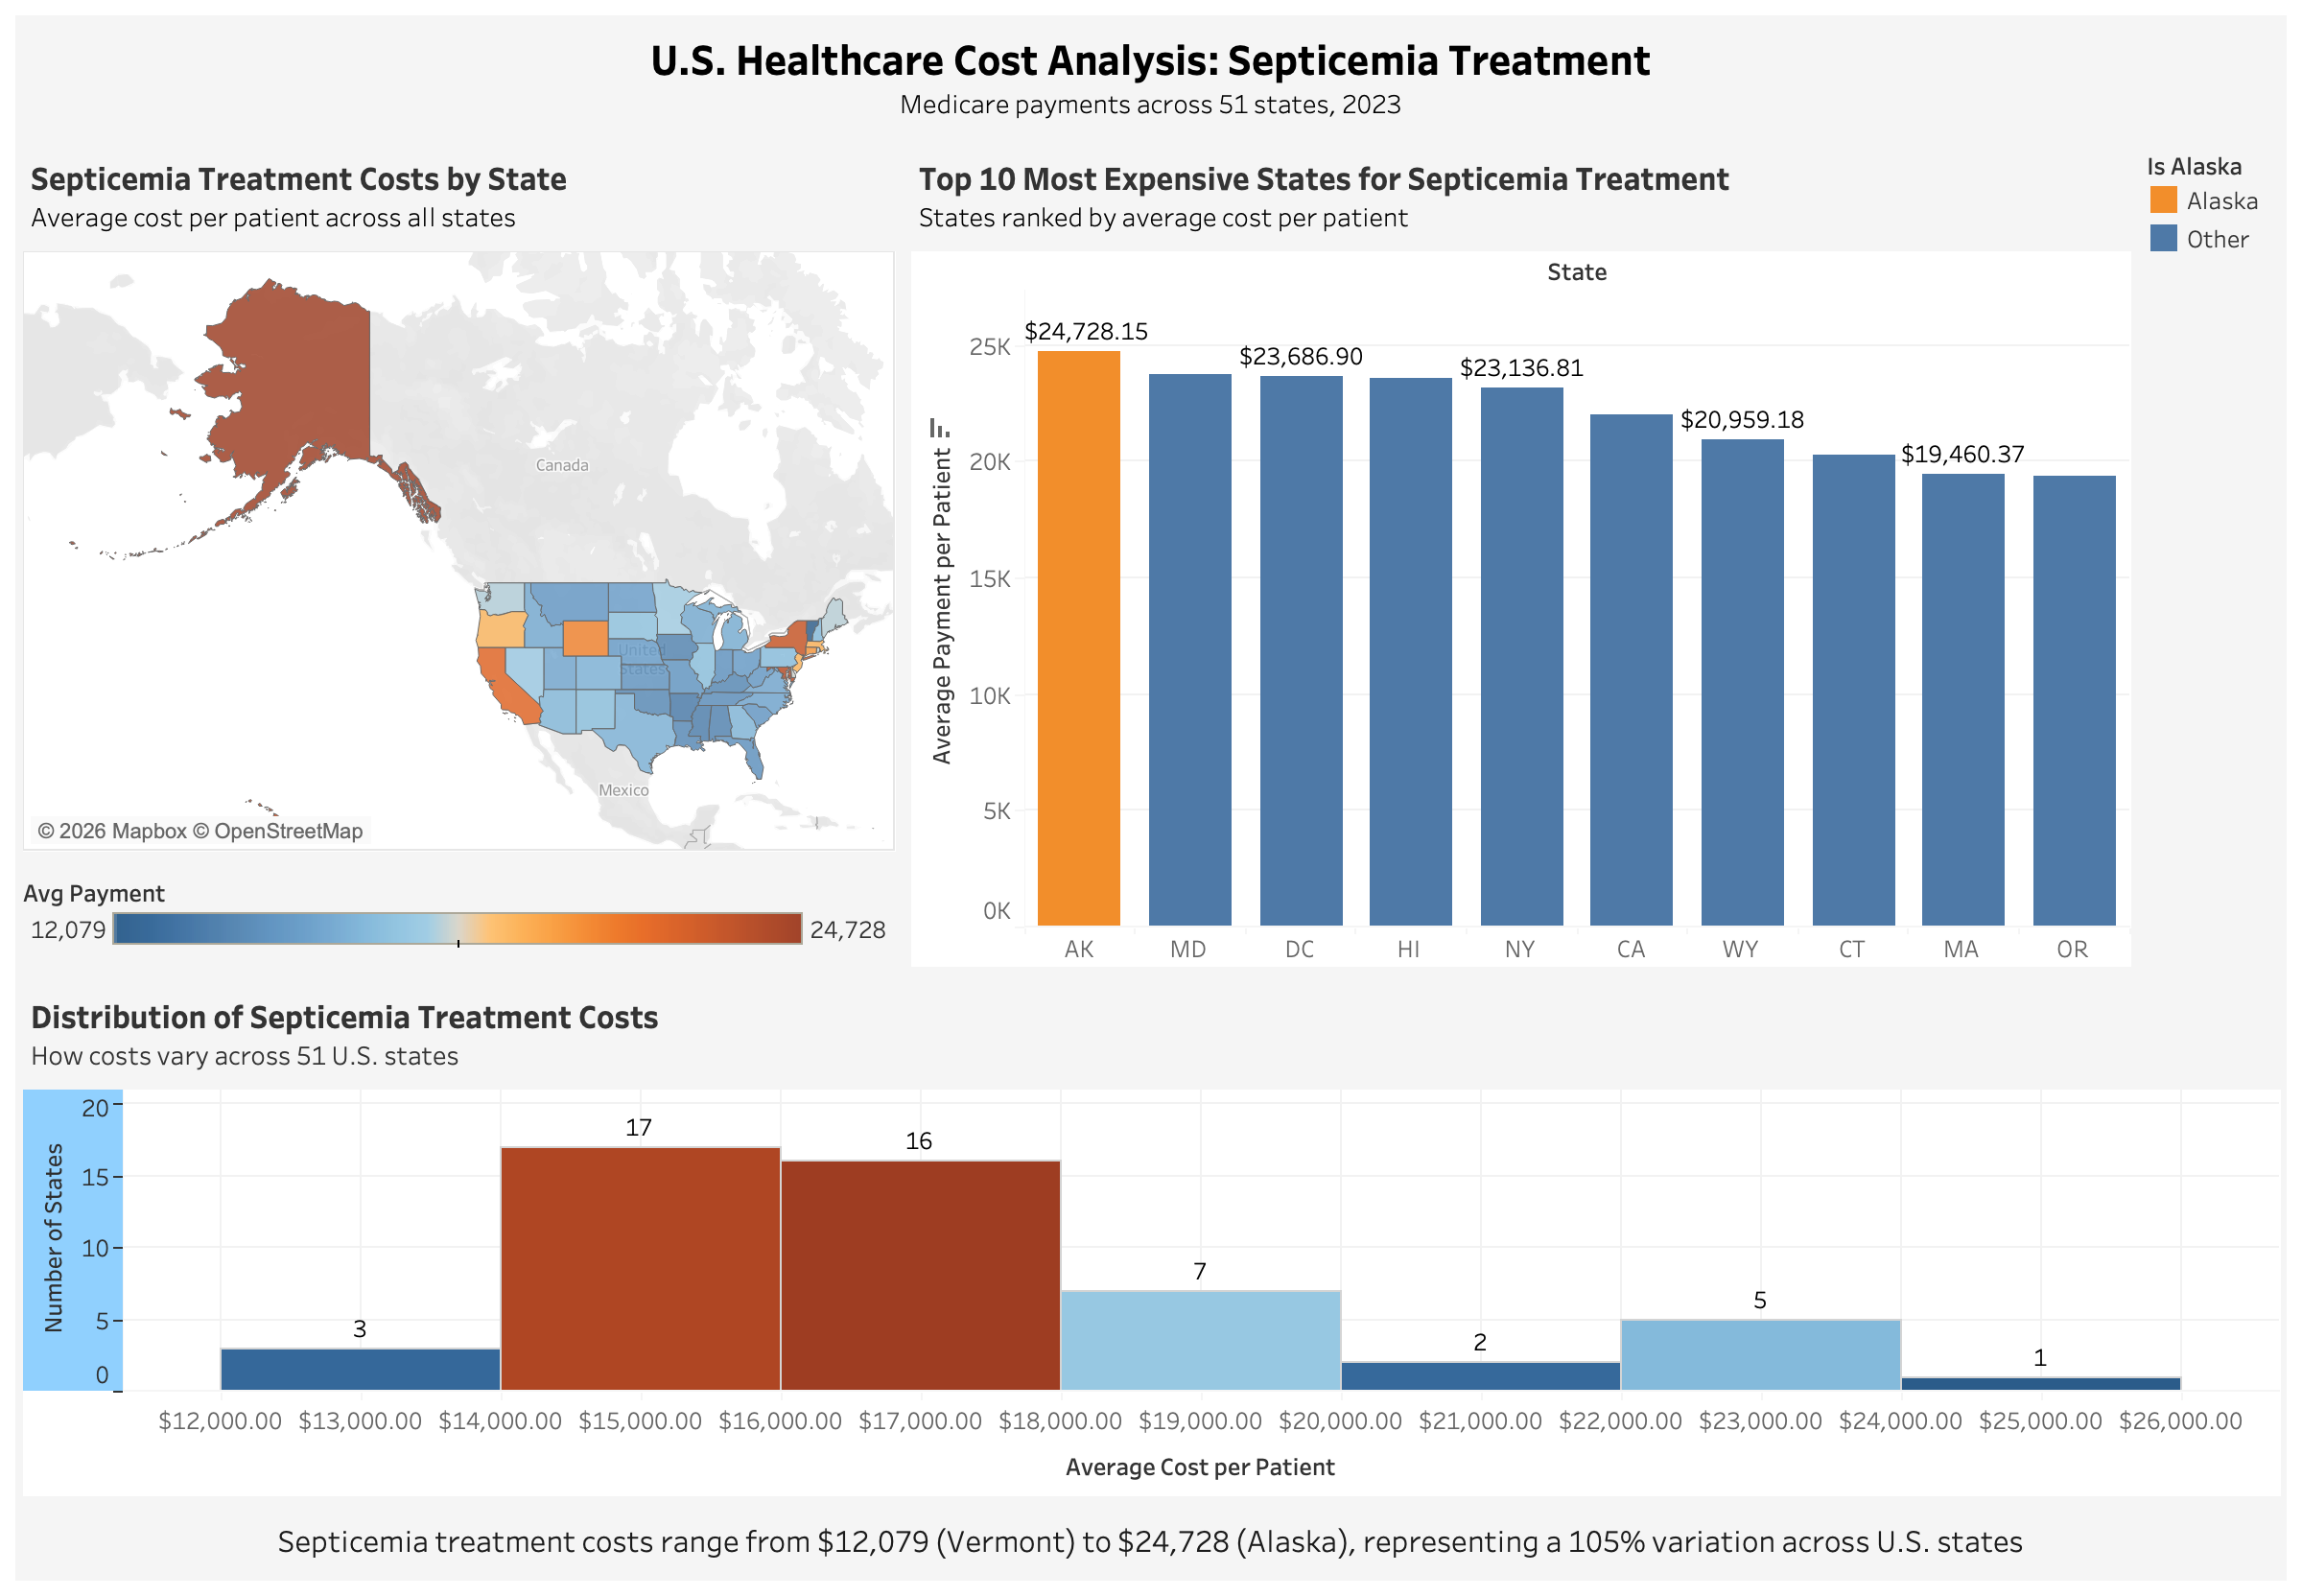

What the dashboard file says about the page in this screenshot:
{"tool":"tableau","page":{"name":"Dashboard 1 - National Overview","canvas":[1000,1000],"units":"permille","ordinal":0},"visuals":[{"type":"text","box":[6.7,9.6,986.7,77.4]},{"type":"worksheet","title":"Map - Cost by State","mark":"Automatic","box":[6.7,87,385.6,452.3]},{"type":"worksheet","title":"Bar - Top 10 States","mark":"Automatic","rows":["avg_payment"],"cols":["state"],"box":[392.3,87,536,524.3]},{"type":"legend","title":"Bar - Top 10 States","param":"[federated.18mxu6k06x6jjs1h422s908hglzw].[none:Calculation_4387581871923200:nk]","box":[928.3,87,65,79.3]},{"type":"legend","title":"Map - Cost by State","param":"[federated.18mxu6k06x6jjs1h422s908hglzw].[sum:avg_payment:qk]","box":[6.7,539.3,385.6,72]},{"type":"worksheet","title":"Histogram - Cost Distribution","mark":"Automatic","rows":["avg_payment"],"cols":["Avg Payment (bin)"],"box":[6.7,611.3,986.7,330.1]},{"type":"text","box":[6.7,941.4,986.7,48.9]}]}

Visuals, with their boxes on the dashboard's canvas, which has no fixed pixel size, in thousandths of its width and height (x1, y1, x2, y2). These are canvas units, not pixel positions in the 2302x1596 screenshot, which may show the page scaled, cropped or inside an application window:
text: <region>7, 10, 993, 87</region>
"Map - Cost by State" worksheet: <region>7, 87, 392, 539</region>
"Bar - Top 10 States" worksheet: <region>392, 87, 928, 611</region>
"Bar - Top 10 States" legend: <region>928, 87, 993, 166</region>
"Map - Cost by State" legend: <region>7, 539, 392, 611</region>
"Histogram - Cost Distribution" worksheet: <region>7, 611, 993, 941</region>
text: <region>7, 941, 993, 990</region>
